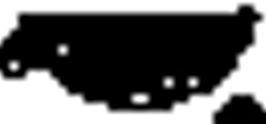Basket: (1, 6, 261, 107)
